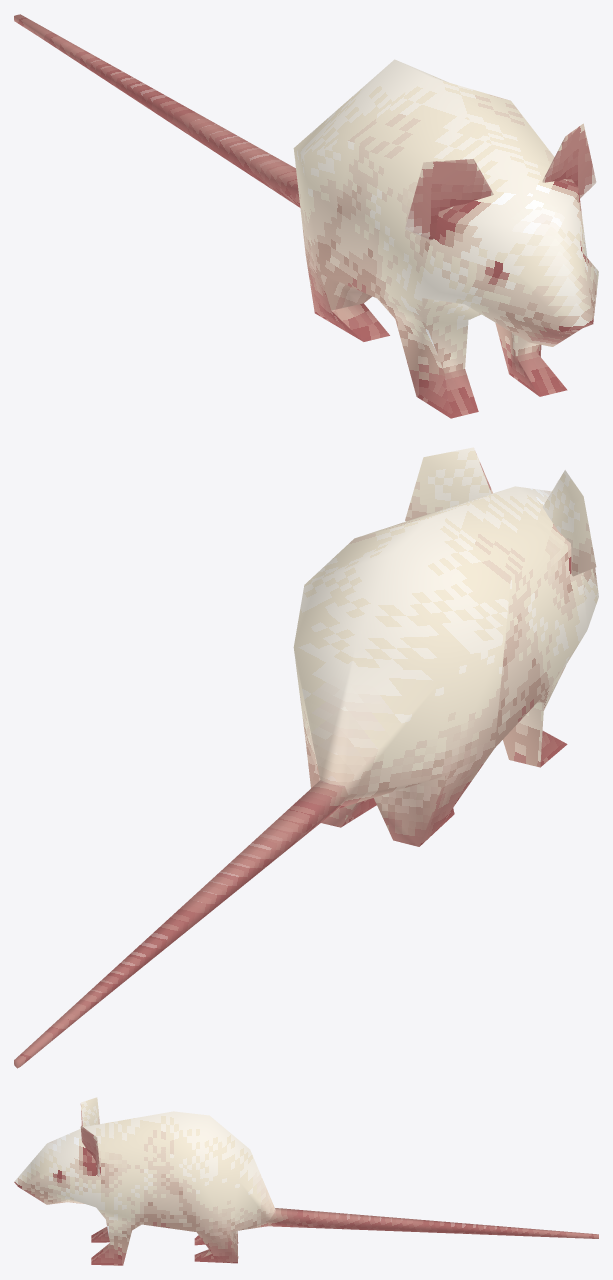
The model's file is rat.glb.
3 renders of one model, top to bottom at view 1: azimuth 30°, elevation 25°; view 2: azimuth 150°, elevation 25°; view 3: azimuth 270°, elevation 25°, orthographic. The views are drawn at different scales.
Visible parts, largest first — view 1: Cube; view 2: Cube; view 3: Cube.
Boxes of the visible parts, bbox=[...] form: Cube: bbox=[14, 14, 598, 418]; Cube: bbox=[14, 447, 598, 1068]; Cube: bbox=[14, 1097, 598, 1265].
Size of the model in its own units: 0.1615 by 0.2064 by 0.7879.
1 material, 1 textured.
